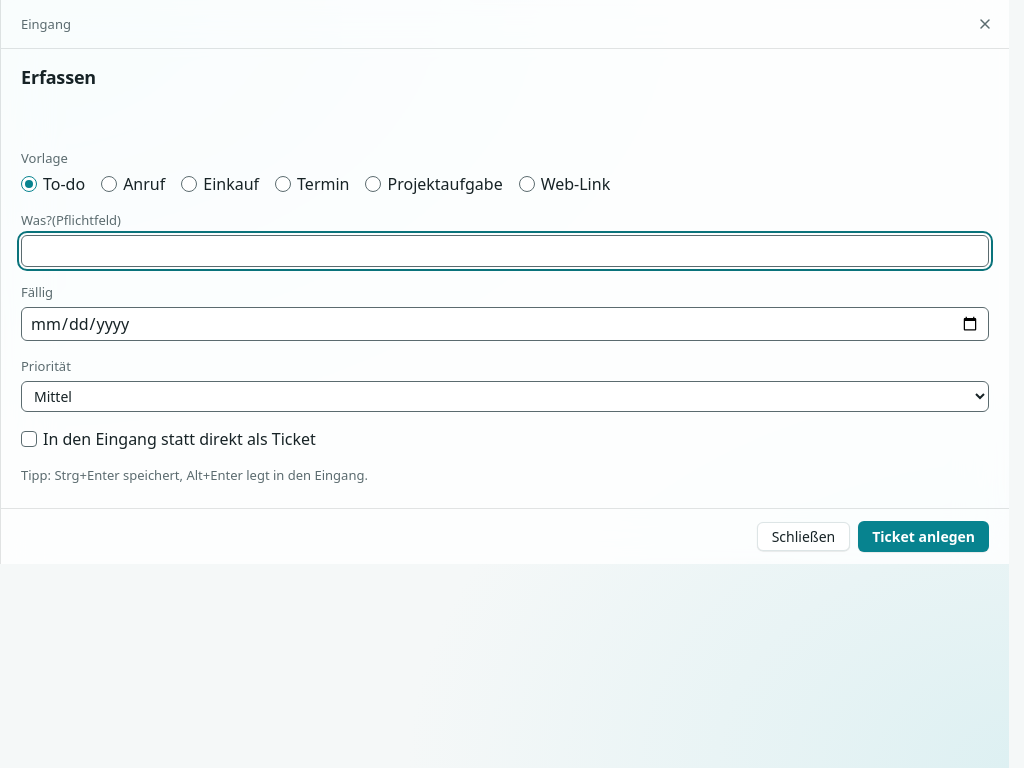
it: capture form › shows failures of the server per field and as message and keeps the input
Type "A" into the field labelled "Was?(Pflichtfeld)".
click(505, 251); type("A")  # box 21,235 -> 989,267
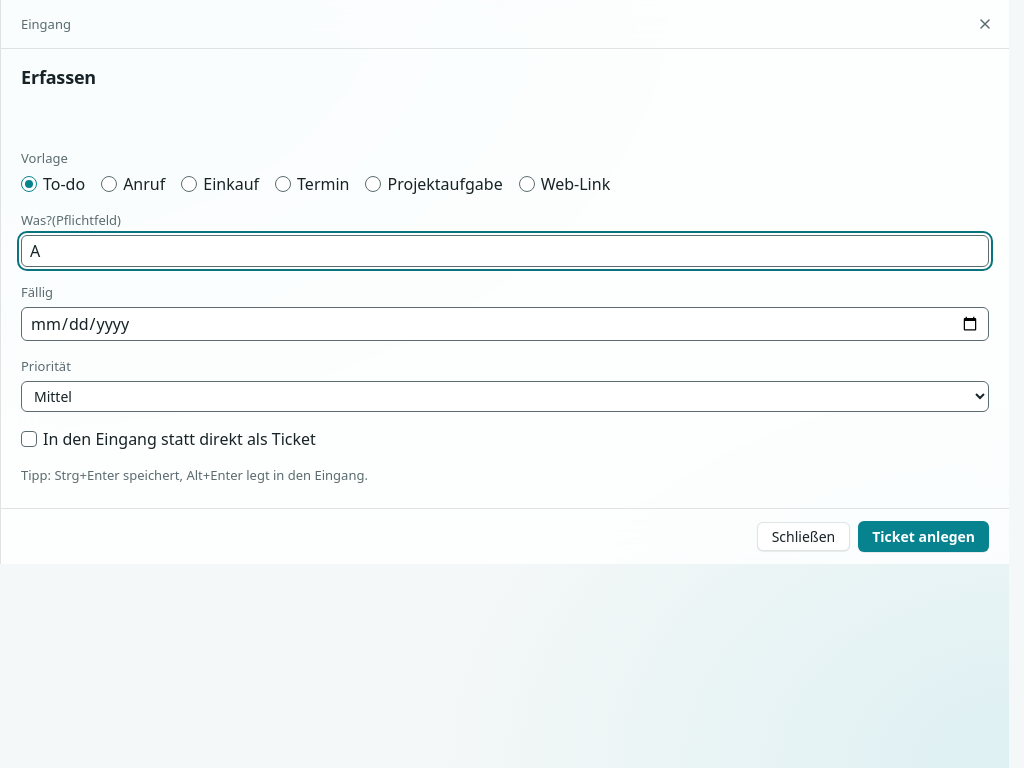
Click the button "Ticket anlegen".
click(924, 536)  # box 858,521 -> 989,552
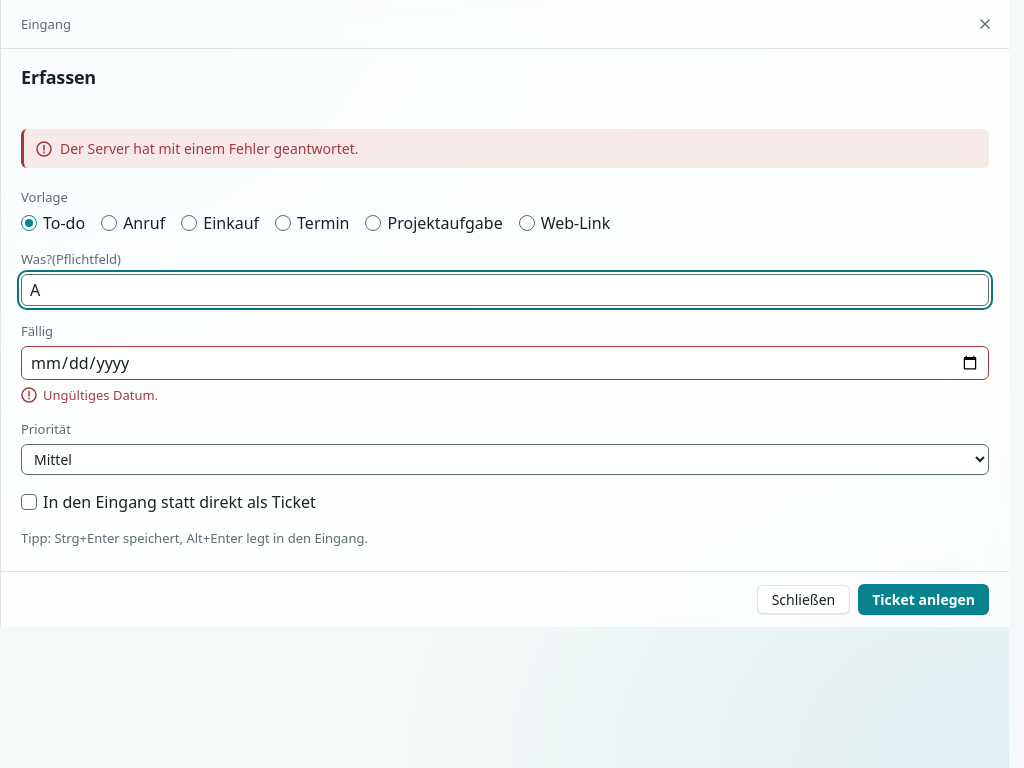
Expected: the text "Der Server hat mit einem Fehler geantwortet." is shown, 21,129 -> 989,168
